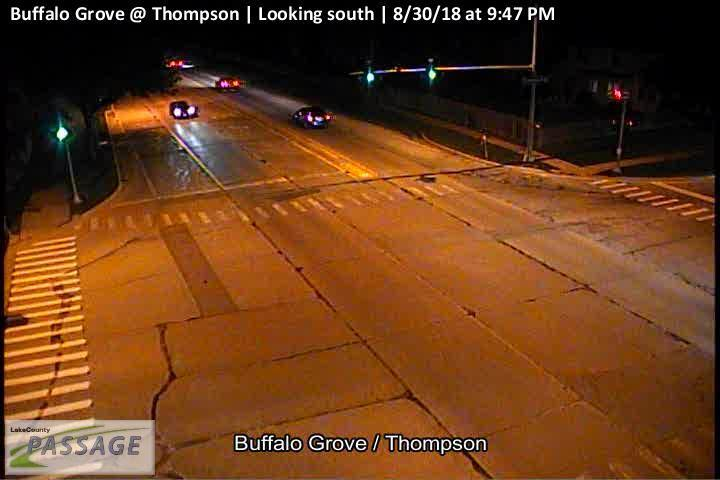Sedan: (292, 107, 328, 128), (169, 100, 196, 118), (217, 78, 240, 91), (177, 59, 195, 69)
